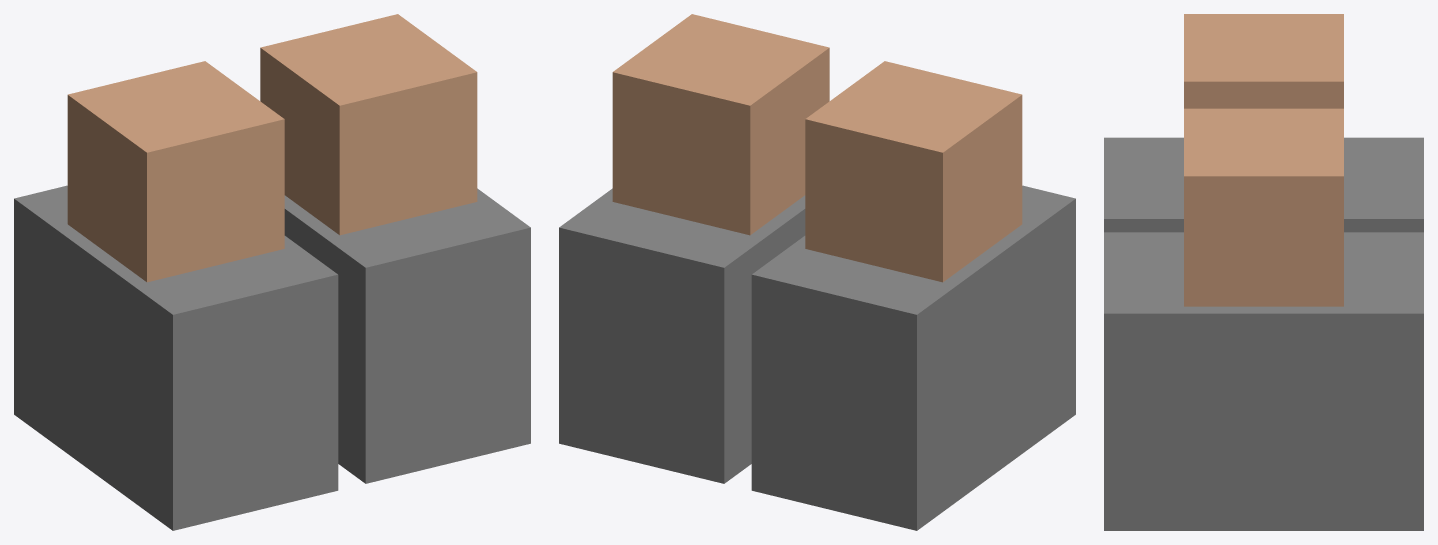
The model's file is ferris_rider.obj.
3 renders of one model, left to right at view 1: azimuth 30°, elevation 25°; view 2: azimuth 150°, elevation 25°; view 3: azimuth 270°, elevation 25°, orthographic.
Bounding box in the file's own units: 0.52 × 0.48 × 0.4.
